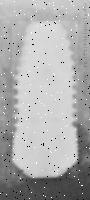Dentium: (7, 20, 79, 179)
